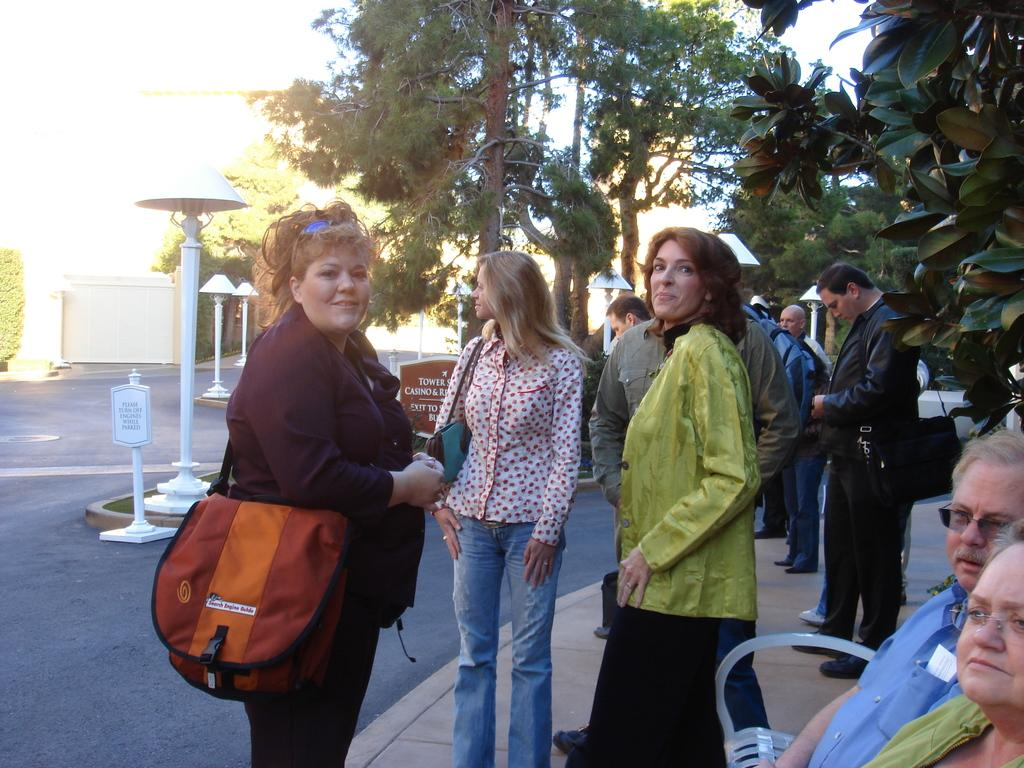Luggage-and-bags: (141, 457, 356, 720), (423, 341, 492, 484), (738, 301, 809, 428)
